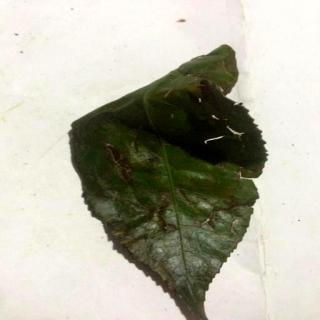Red Leaf Spot: (70, 46, 267, 320)
